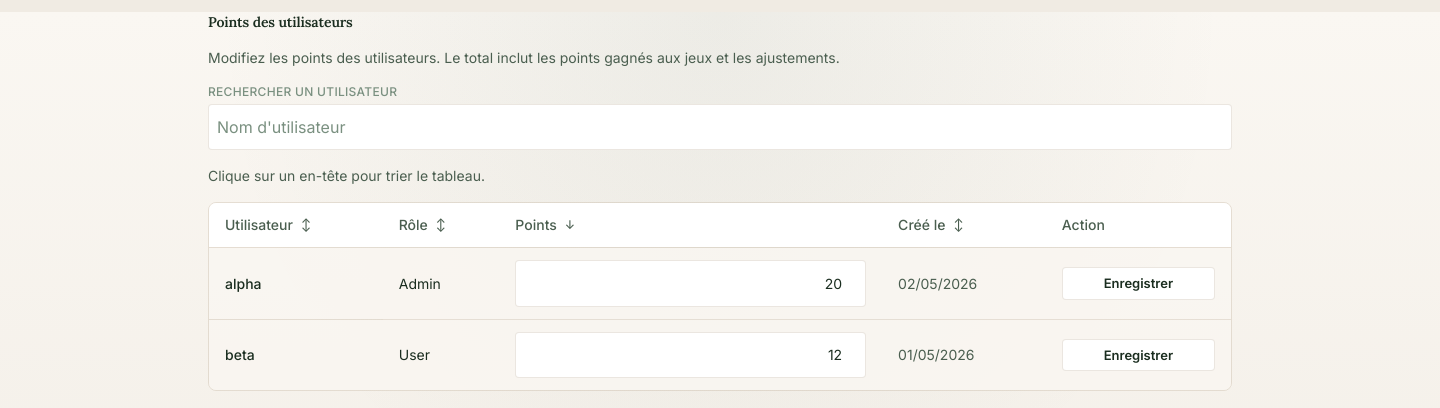
Test: UserPointsPanel › shows empty state when no user matches
The width and height of the screenshot is (1440, 408).
Type "zzz" into the search field with placeholder "Nom d'utilisateur" at coordinates (720, 127), box [208,104,1232,150]
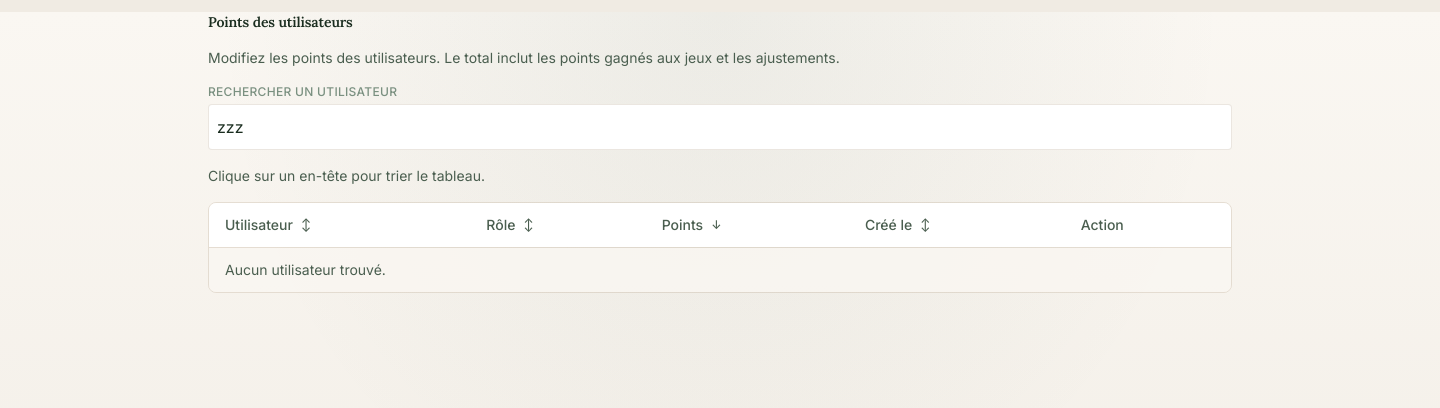
Check: the text "Aucun utilisateur trouvé." is shown, box [209,248,1231,292]
